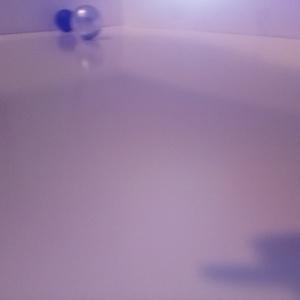alive_ball: (70, 4, 101, 38)
dead_ball: (54, 7, 73, 30)
